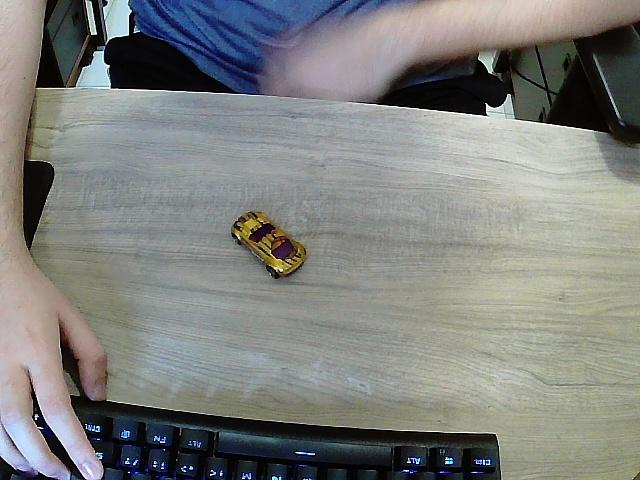Carro: (232, 212, 307, 279)
